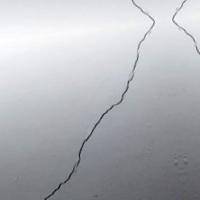crack: (31, 2, 199, 199)
